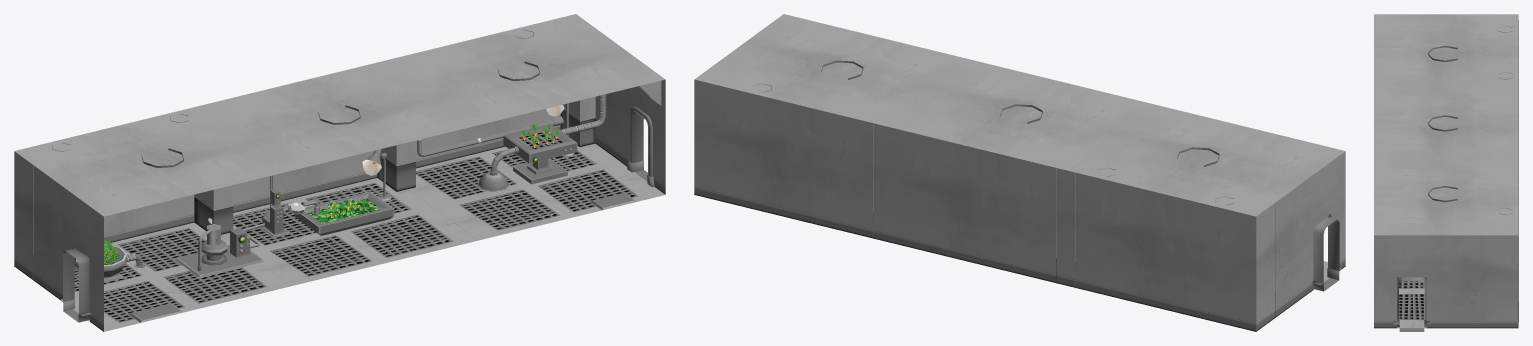
The model's file is MSH_Hydroponic_farm_room_L1_R3_optimized.fbx.
3 views of the same model, side by side, from view 1: azimuth 30°, elevation 25°; view 2: azimuth 150°, elevation 25°; view 3: azimuth 270°, elevation 25° (orthographic). The views are drawn at different scales.
Parts seen in each view (by area): view 1: lightmap0, lightmap1, lightmap-1; view 2: lightmap0, lightmap-1, lightmap1; view 3: lightmap0, lightmap1, lightmap-1.
Boxes of the visible parts, bbox=[...] form: lightmap0: bbox=[14, 14, 665, 331]; lightmap1: bbox=[52, 30, 635, 322]; lightmap-1: bbox=[63, 105, 647, 322]; lightmap0: bbox=[694, 14, 1345, 331]; lightmap-1: bbox=[1313, 217, 1339, 291]; lightmap1: bbox=[753, 60, 1233, 205]; lightmap0: bbox=[1374, 14, 1518, 328]; lightmap1: bbox=[1427, 26, 1512, 214]; lightmap-1: bbox=[1399, 277, 1424, 331].
Bounding box in the file's own units: 30.91 × 5.97 × 8.28.
Materials: 6 (5 with a texture image).
